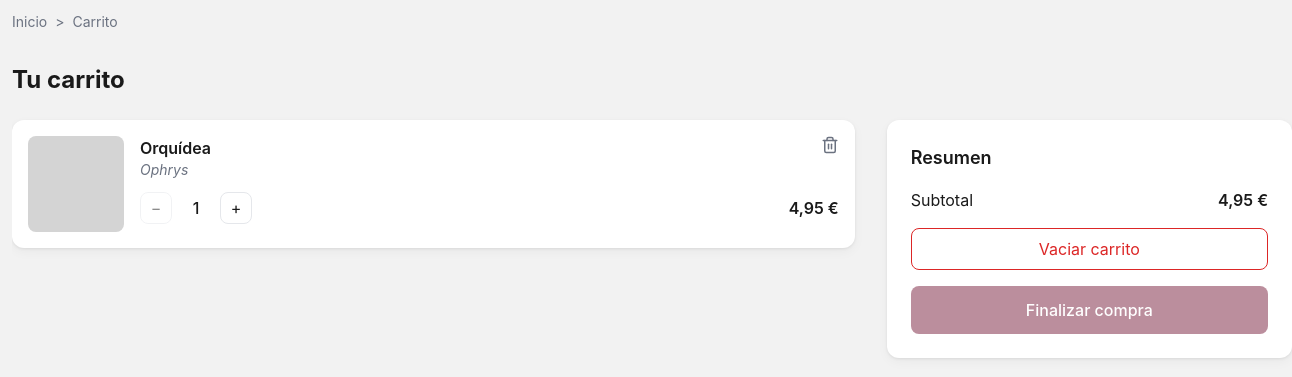
it: CartPage integration › updates quantity with stepper
This screenshot has width=1292, height=377.
Click the button named "Aumentar cantidad" at {"x": 236, "y": 208}, box [220,192,252,224]
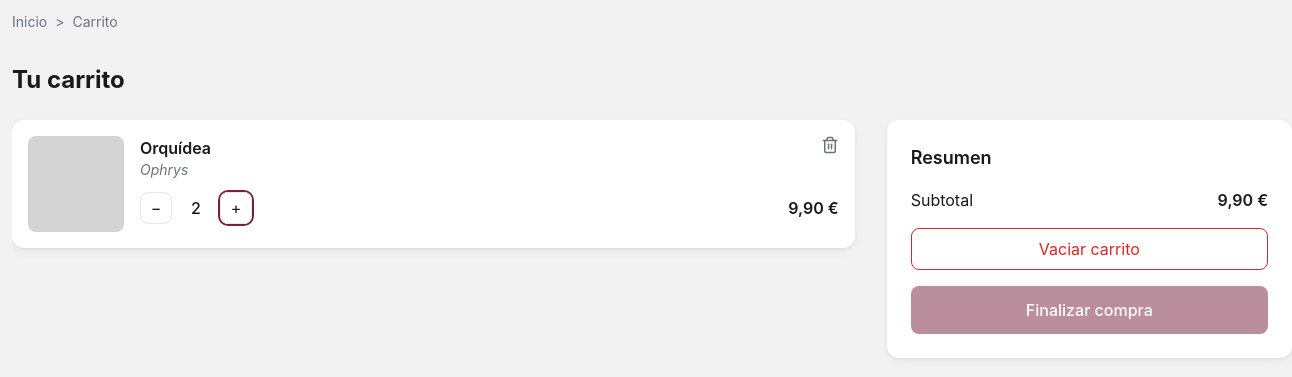
Now the text "2" is shown, box [191,198,201,218]
